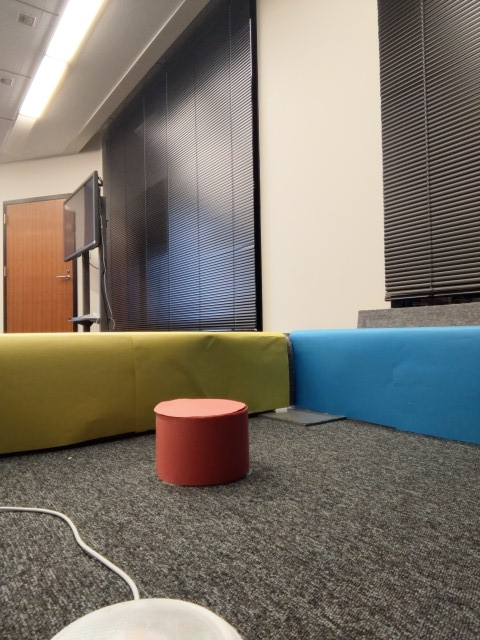o: (43, 596, 244, 640)
